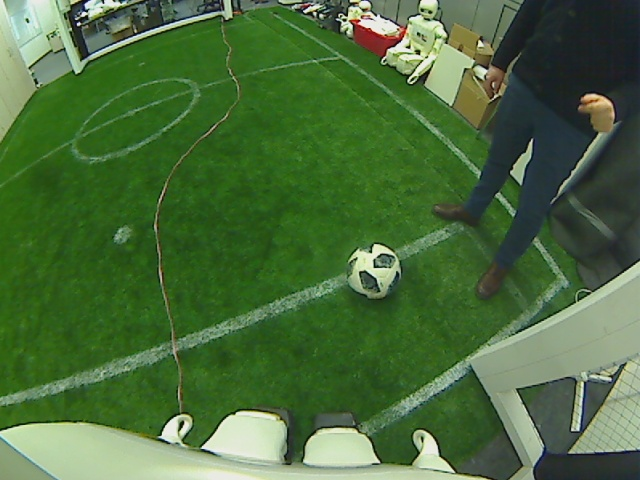ball: (343, 242, 403, 300)
